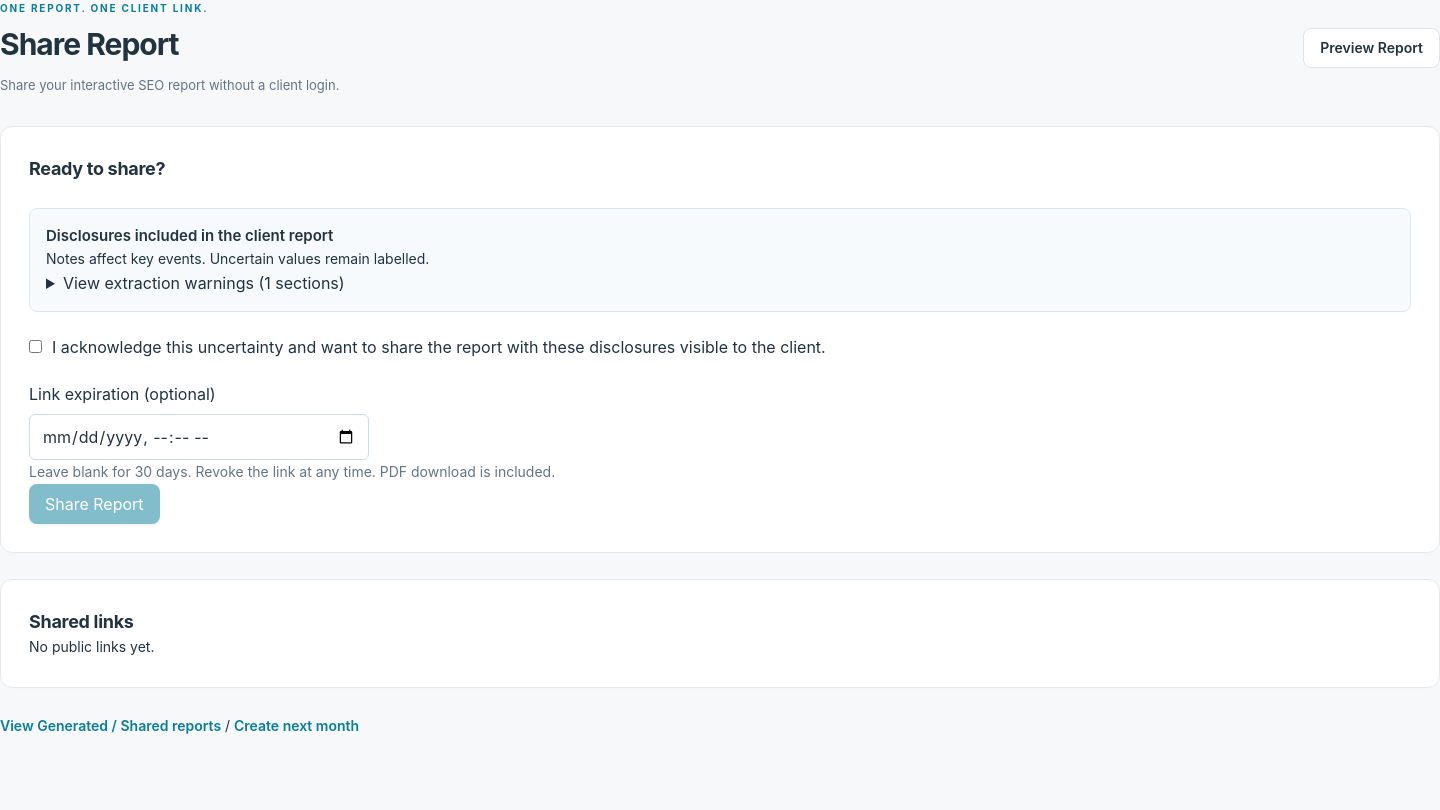
Test: requires one uncertainty acknowledgment and creates a public snapshot and link together
Expected: the button "Share Report" is disabled, top-left (29, 484), bottom-right (160, 524)
Click the checkbox labelled "I acknowledge this uncertainty" at (36, 346), box top-left (29, 340), bottom-right (42, 353)
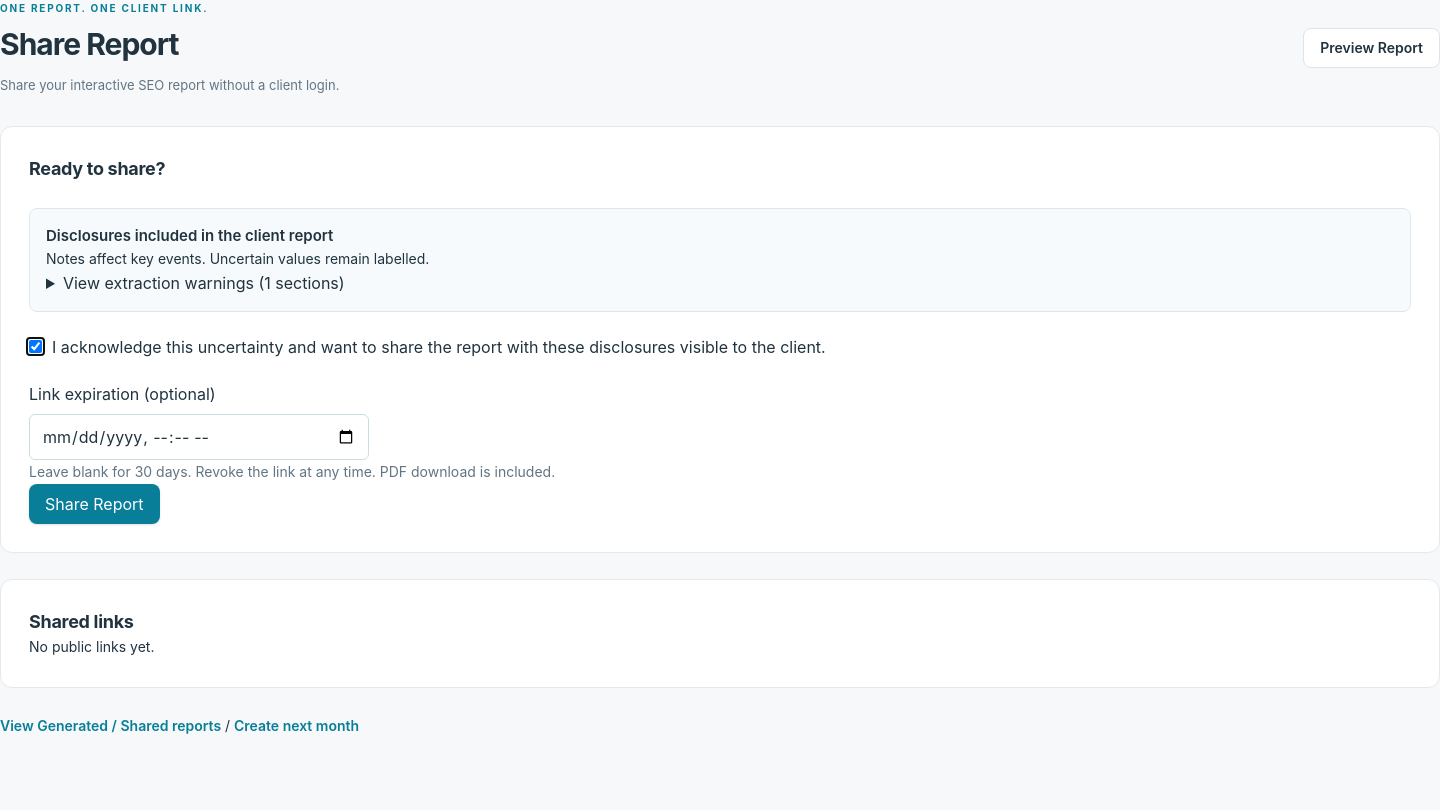
Result: the button "Share Report" is enabled
Click the button "Share Report" at (94, 504), box top-left (29, 484), bottom-right (160, 524)
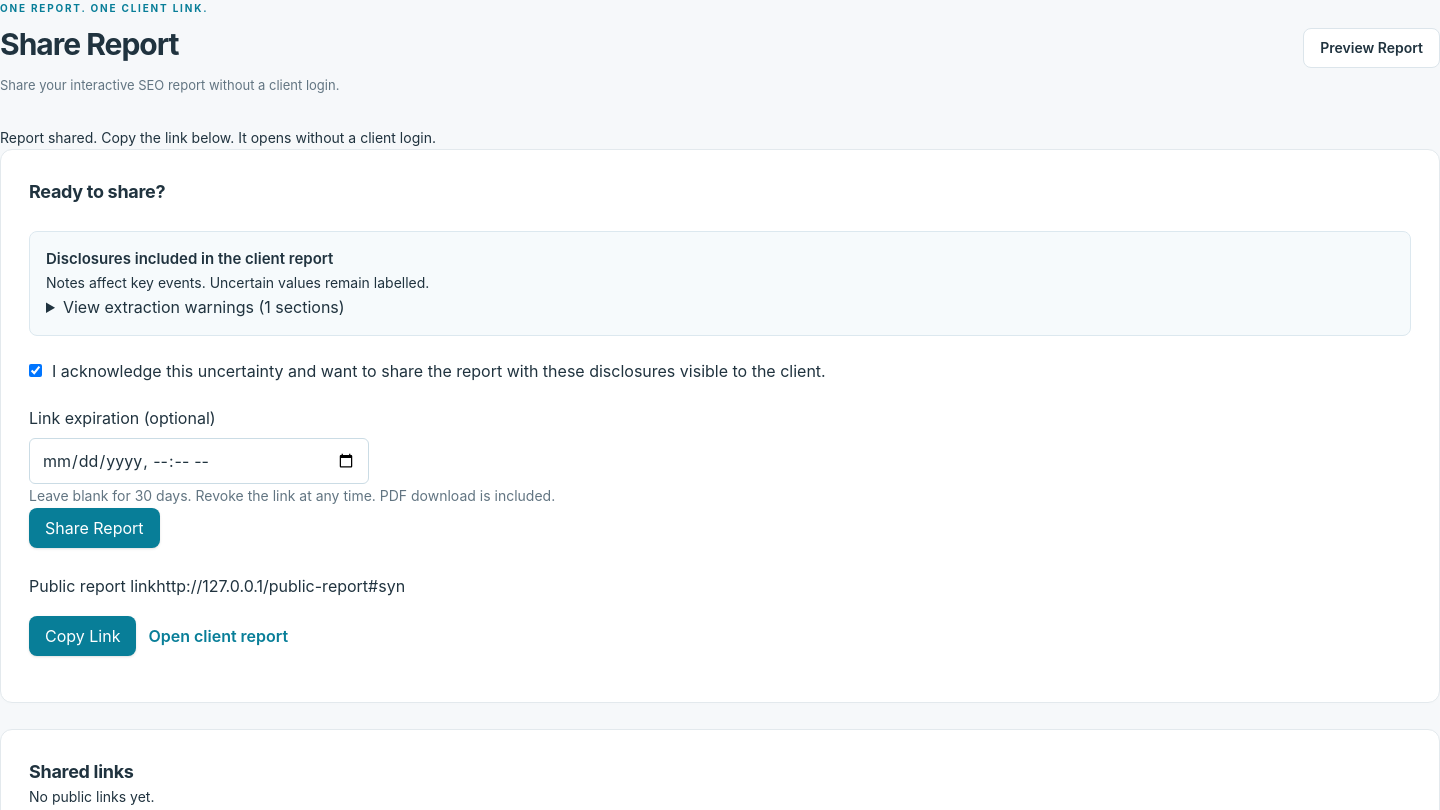
Result: the field labelled "Public report link" is shown at top-left (156, 574), bottom-right (404, 598)
Result: the button "Copy Link" is shown at top-left (29, 616), bottom-right (136, 656)
